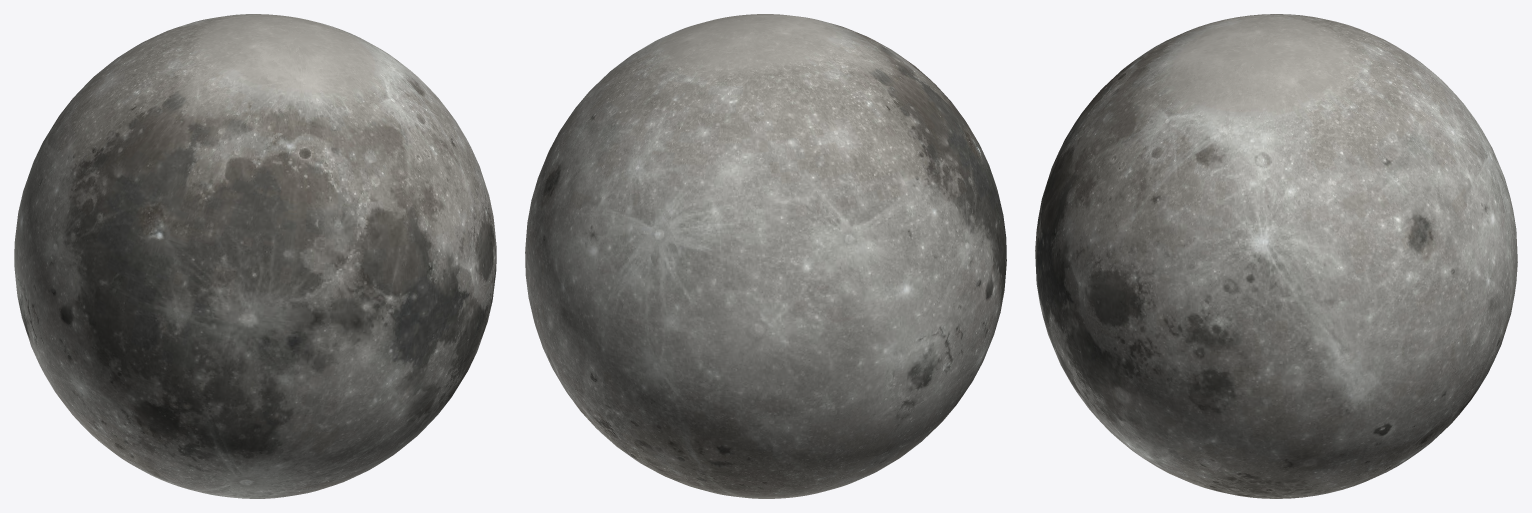
The model's file is TheMoon.glb.
The picture shows the model from 3 angles, left to right: view 1: azimuth 30°, elevation 25°; view 2: azimuth 150°, elevation 25°; view 3: azimuth 270°, elevation 25°; orthographic projection.
Visible parts, largest first — view 1: Sphere; view 2: Sphere; view 3: Sphere.
Part boxes in pixels (x1,y1,x2,y2): Sphere: (14, 14, 496, 498); Sphere: (525, 14, 1006, 498); Sphere: (1035, 14, 1517, 498).
Size of the model in its own units: 1.97 by 1.99 by 1.97.
Materials: 1 (1 with a texture image).
